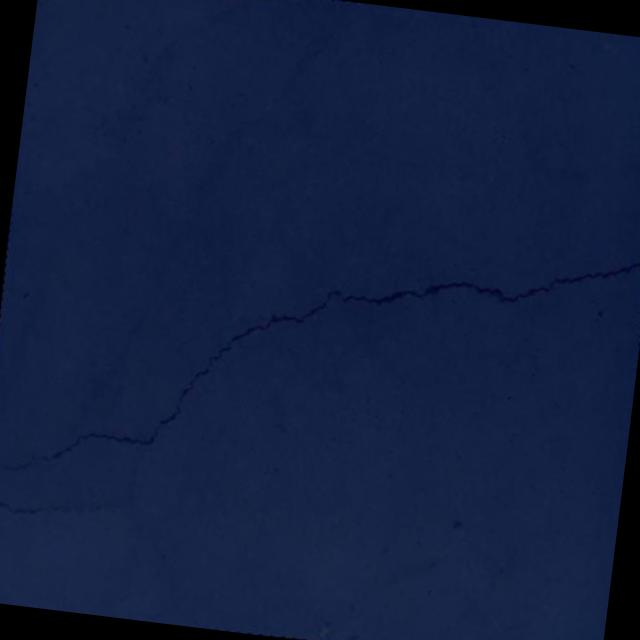crack: (0, 179, 640, 552), (0, 492, 101, 529)
